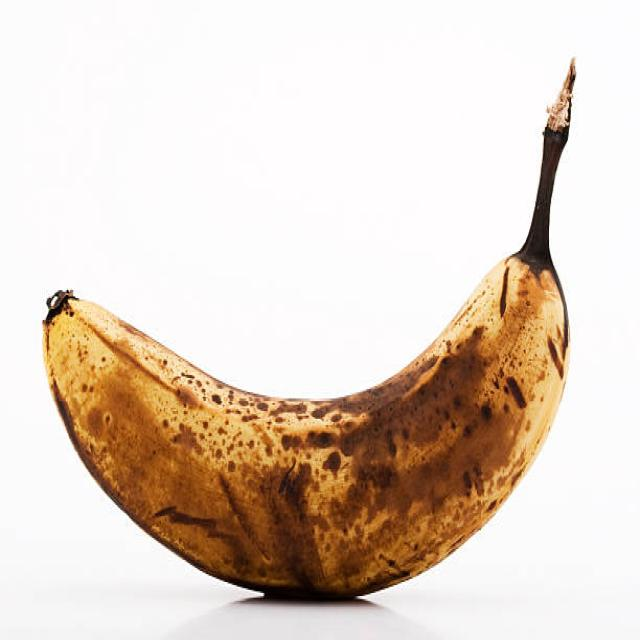overripe: (38, 122, 574, 605)
